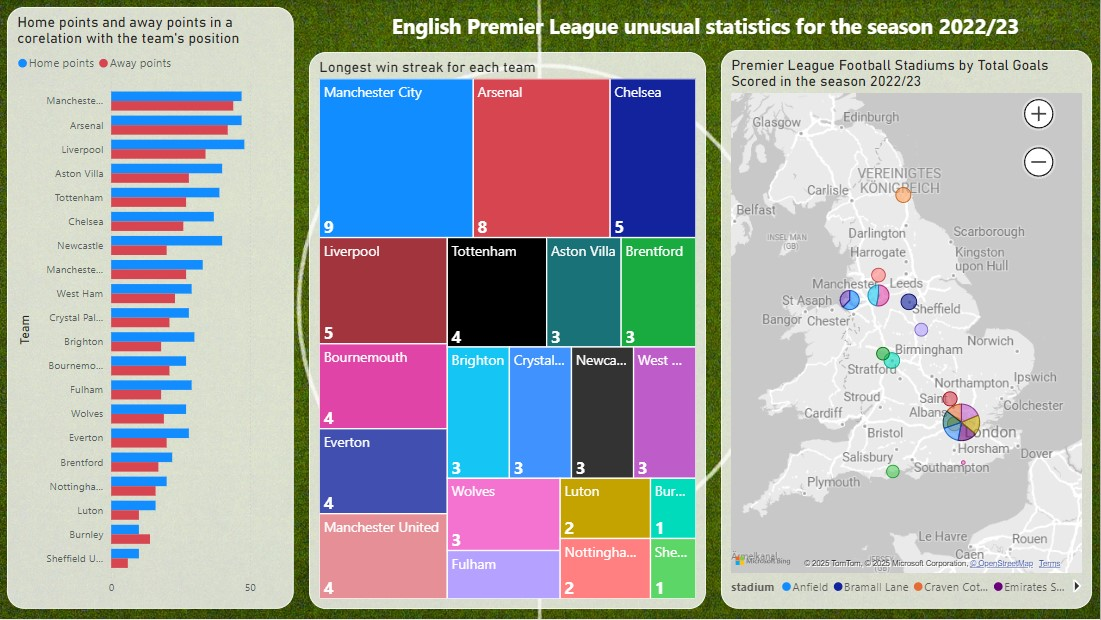

The dashboard page shown, as its layout file describes it:
{"tool":"powerbi","page":{"name":"Page 1","canvas":[1280,720],"ordinal":0},"visuals":[{"type":"map","title":"Premier League Football Stadiums by Total Goals Scored in the season 2022/23","fields":{"Category":["Top-Scoring%20Stadiums.city"],"Size":["Top-Scoring%20Stadiums.total_goals"],"Series":["Top-Scoring%20Stadiums.stadium"]},"box":[839.8,59.2,430.9,649.3],"z":0},{"type":"clusteredBarChart","title":"Home points and away points in a corelation with the team''s position","fields":{"Y":["Home%20Standings.home_points","Away%20Standings.away_points"],"Category":["Standings.team"]},"box":[10.5,9.3,333.4,699.2],"z":1},{"type":"treemap","title":"Longest win streak for each team","fields":{"Group":["Longest%20Winning%20Streak.team_name"],"Values":["Longest%20Winning%20Streak.longest_streak"]},"box":[361.2,61.6,461.1,647],"z":2},{"type":"textbox","box":[372.8,9.3,897.9,49.9],"z":3}]}

Visuals, with their boxes in screenshot pixels (x1, y1, x2, y2), scaled from the page's 1280x720 canvas onto the 1101x620 screenshot:
"Premier League Football Stadiums by Total Goals Scored in the season 2022/23" map: (left=722, top=51, right=1093, bottom=610)
"Home points and away points in a corelation with the team''s position" clusteredBarChart: (left=9, top=8, right=296, bottom=610)
"Longest win streak for each team" treemap: (left=311, top=53, right=707, bottom=610)
textbox: (left=321, top=8, right=1093, bottom=51)
